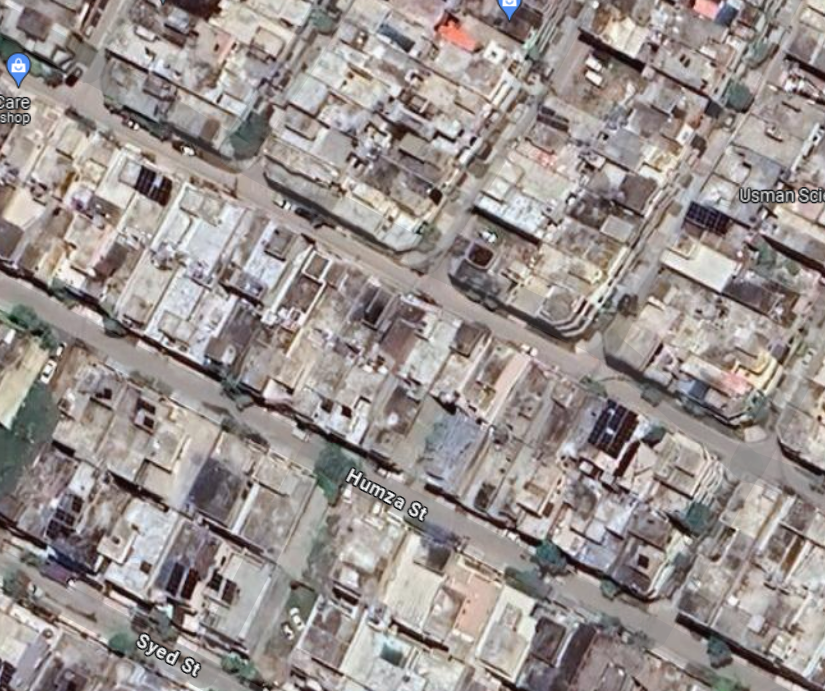solar-panel: (594, 395, 635, 451), (50, 493, 87, 538), (682, 202, 731, 231), (136, 164, 174, 198), (170, 563, 196, 595), (211, 572, 228, 595), (142, 401, 156, 413), (143, 419, 153, 429)
